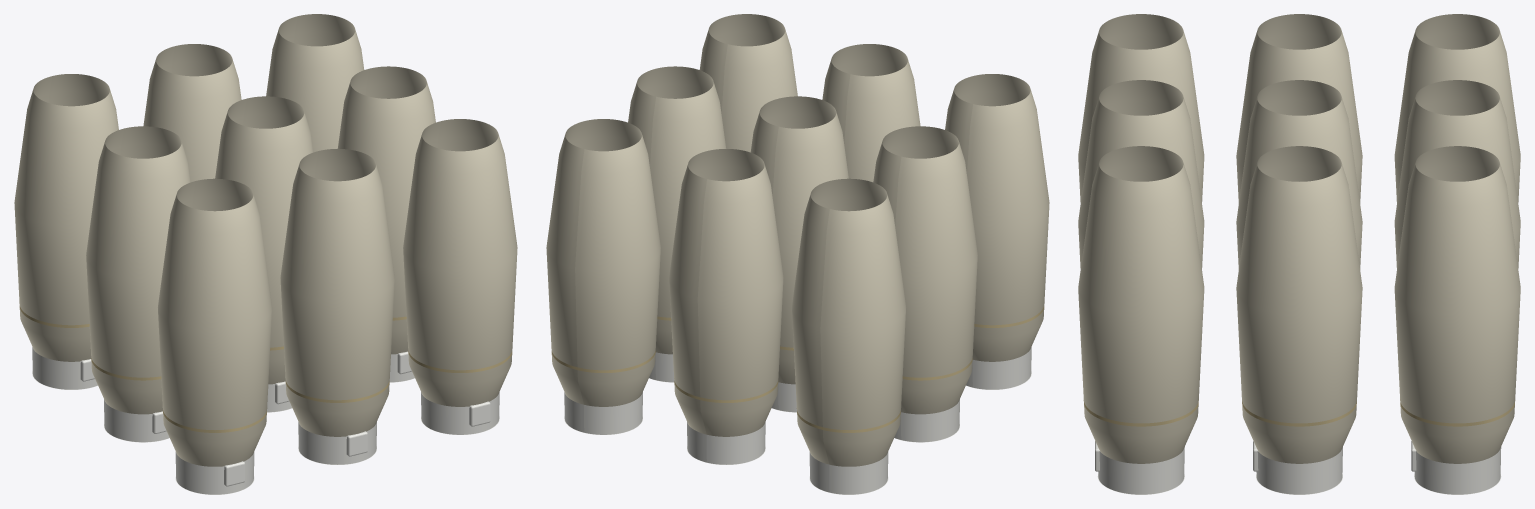
Rendered from loop_mayonnaise_250g.glb.
The picture shows the model from 3 angles, left to right: view 1: azimuth 30°, elevation 25°; view 2: azimuth 150°, elevation 25°; view 3: azimuth 270°, elevation 25°; orthographic projection. The views are drawn at different scales.
Visible parts, largest first — view 1: SQUEEZE | tapered flexible body | 2, SQUEEZE | tapered flexible body | 3, SQUEEZE | tapered flexible body, SQUEEZE | tapered flexible body | 4, SQUEEZE | tapered flexible body | 7, SQUEEZE | tapered flexible body | 5, SQUEEZE | tapered flexible body | 6, SQUEEZE | tapered flexible body | 8, SQUEEZE | tapered flexible body | 9, SQUEEZE | flip-top cap | 2, SQUEEZE | flip-top cap | 3, SQUEEZE | flip-top cap (+2 smaller); view 2: SQUEEZE | tapered flexible body | 8, SQUEEZE | tapered flexible body | 9, SQUEEZE | tapered flexible body | 7, SQUEEZE | tapered flexible body | 4, SQUEEZE | tapered flexible body, SQUEEZE | tapered flexible body | 5, SQUEEZE | tapered flexible body | 6, SQUEEZE | tapered flexible body | 2, SQUEEZE | tapered flexible body | 3, SQUEEZE | flip-top cap | 8, SQUEEZE | flip-top cap | 7, SQUEEZE | flip-top cap | 9 (+4 smaller); view 3: SQUEEZE | tapered flexible body | 9, SQUEEZE | tapered flexible body | 3, SQUEEZE | tapered flexible body | 6, SQUEEZE | tapered flexible body | 4, SQUEEZE | tapered flexible body, SQUEEZE | tapered flexible body | 5, SQUEEZE | tapered flexible body | 7, SQUEEZE | tapered flexible body | 2, SQUEEZE | tapered flexible body | 8, SQUEEZE | flip-top cap | 3, SQUEEZE | flip-top cap | 9, SQUEEZE | flip-top cap | 6.
Part boxes in pixels (<box>): SQUEEZE | tapered flexible body | 2: <box>280,149,394,436</box>; SQUEEZE | tapered flexible body | 3: <box>403,119,517,406</box>; SQUEEZE | tapered flexible body: <box>158,178,272,466</box>; SQUEEZE | tapered flexible body | 4: <box>86,126,190,414</box>; SQUEEZE | tapered flexible body | 7: <box>14,74,118,361</box>; SQUEEZE | tapered flexible body | 5: <box>215,96,313,384</box>; SQUEEZE | tapered flexible body | 6: <box>337,66,435,354</box>; SQUEEZE | tapered flexible body | 8: <box>143,44,241,182</box>; SQUEEZE | tapered flexible body | 9: <box>266,14,364,152</box>; SQUEEZE | flip-top cap | 2: <box>298,422,376,464</box>; SQUEEZE | flip-top cap | 3: <box>421,392,499,434</box>; SQUEEZE | flip-top cap: <box>175,452,254,494</box>; SQUEEZE | tapered flexible body | 8: <box>669,149,783,436</box>; SQUEEZE | tapered flexible body | 9: <box>546,119,660,406</box>; SQUEEZE | tapered flexible body | 7: <box>791,178,905,466</box>; SQUEEZE | tapered flexible body | 4: <box>873,126,977,414</box>; SQUEEZE | tapered flexible body: <box>945,74,1049,361</box>; SQUEEZE | tapered flexible body | 5: <box>750,96,848,384</box>; SQUEEZE | tapered flexible body | 6: <box>628,66,726,354</box>; SQUEEZE | tapered flexible body | 2: <box>822,44,920,182</box>; SQUEEZE | tapered flexible body | 3: <box>699,14,797,152</box>; SQUEEZE | flip-top cap | 8: <box>687,422,765,464</box>; SQUEEZE | flip-top cap | 7: <box>809,452,888,494</box>; SQUEEZE | flip-top cap | 9: <box>564,392,642,434</box>; SQUEEZE | tapered flexible body | 9: <box>1394,146,1520,463</box>; SQUEEZE | tapered flexible body | 3: <box>1078,146,1204,463</box>; SQUEEZE | tapered flexible body | 6: <box>1236,146,1362,463</box>; SQUEEZE | tapered flexible body | 4: <box>1236,14,1362,203</box>; SQUEEZE | tapered flexible body: <box>1078,14,1204,202</box>; SQUEEZE | tapered flexible body | 5: <box>1236,80,1362,269</box>; SQUEEZE | tapered flexible body | 7: <box>1394,14,1520,202</box>; SQUEEZE | tapered flexible body | 2: <box>1078,80,1204,268</box>; SQUEEZE | tapered flexible body | 8: <box>1394,80,1520,268</box>; SQUEEZE | flip-top cap | 3: <box>1098,446,1184,494</box>; SQUEEZE | flip-top cap | 9: <box>1414,447,1501,494</box>; SQUEEZE | flip-top cap | 6: <box>1256,447,1342,494</box>.
Size of the model in its own units: 0.2302 by 0.181 by 0.2322.
Materials: 4 (1 with a texture image).
